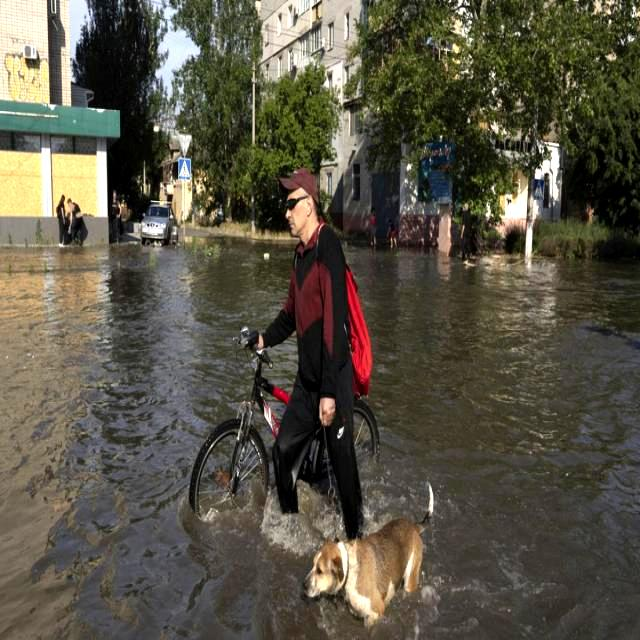civilian: (249, 160, 386, 530), (66, 192, 92, 254), (54, 196, 70, 256)
dog: (296, 480, 480, 640)
